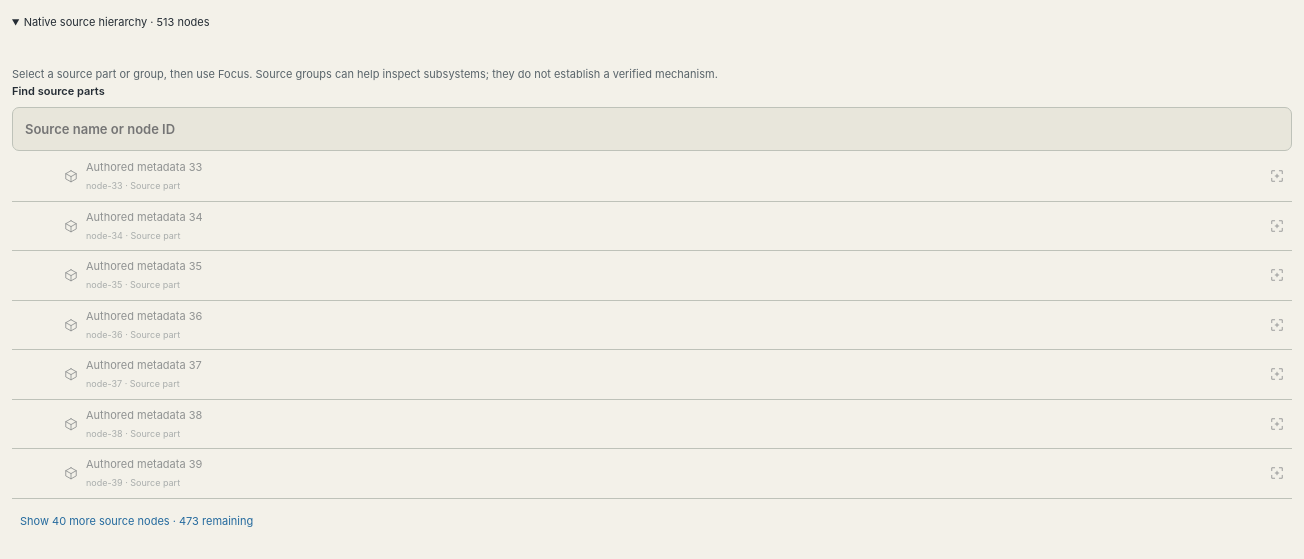
bounds large flat lists while keeping unavailable sources disabled
This screenshot has width=1304, height=559.
(page scrolled)
Click the button "Show 40 more source nodes · 473 remaining". click: (137, 521)
box: top-left (20, 499), bottom-right (253, 543)
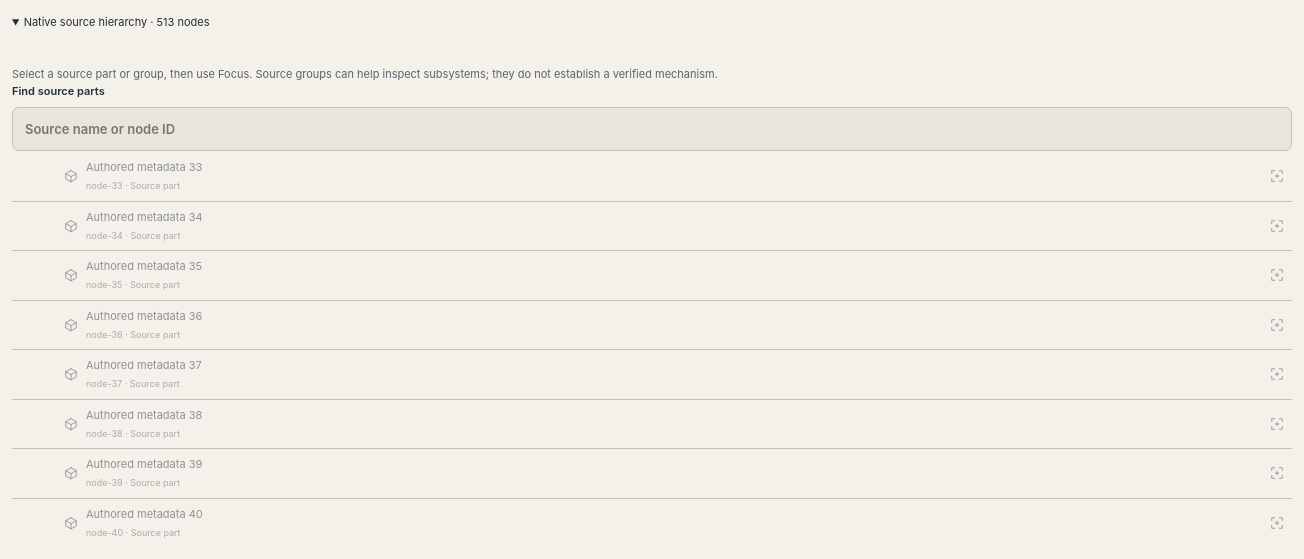
Type "node-512" into the search field. click: (652, 129)
box: top-left (12, 107), bottom-right (1292, 151)
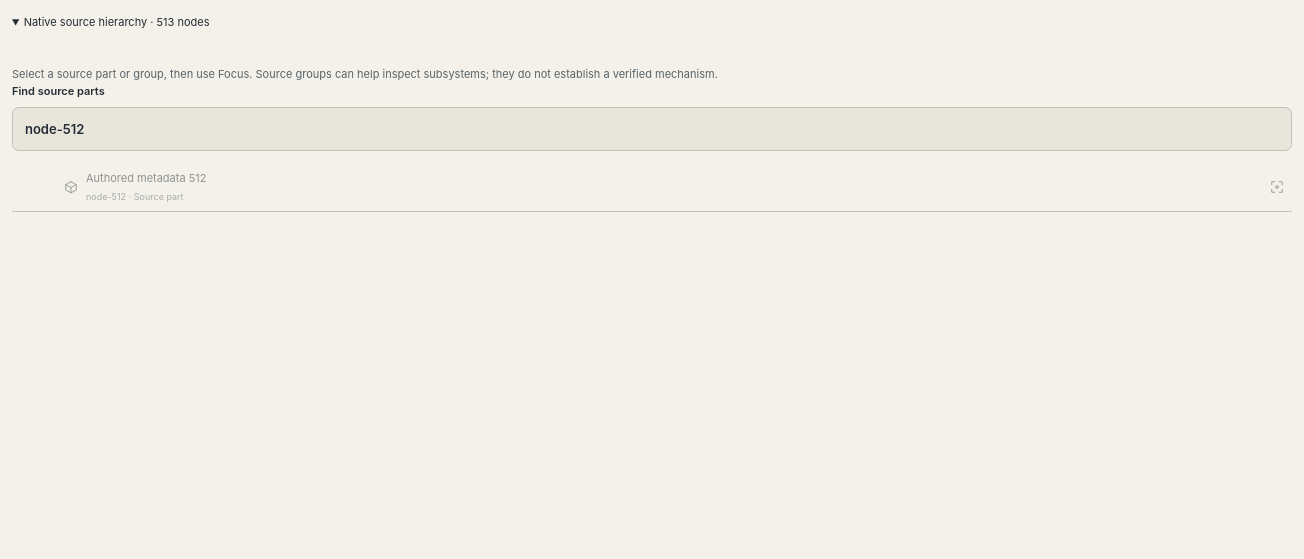
Check: the number of buttons "Authored metadata 512 node-512 · Source part" is 1, box top-left (56, 163), bottom-right (1292, 211)
